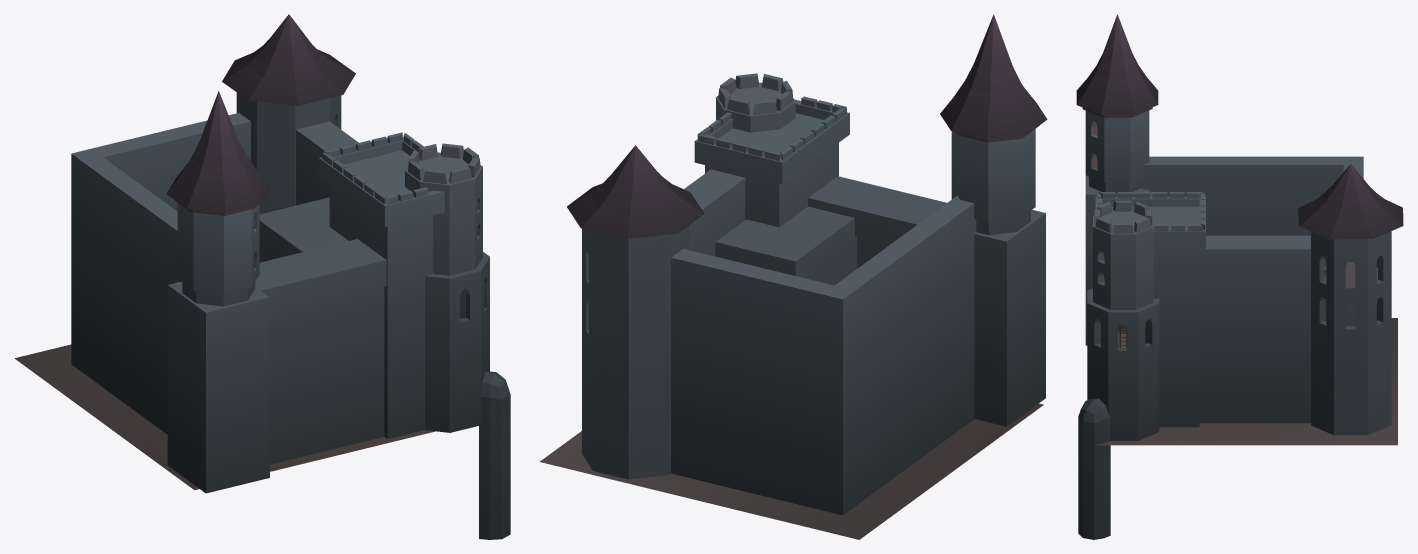
File: castle.fbx
3 renders of one model, left to right at view 1: azimuth 30°, elevation 25°; view 2: azimuth 150°, elevation 25°; view 3: azimuth 270°, elevation 25°, orthographic. The views are drawn at different scales.
Parts seen in each view (by area): view 1: outside_walls_02, wall.001, outside_walls_01, tower_01, tower_02, tower_01.001, third_floor_room, tower_roof_02, Plane.014, tower_roof_01, tower_03, Roundcube.001 (+1 smaller); view 2: outside_walls_02, wall.001, outside_walls_01, tower_03, tower_01, Plane.014, third_floor_room, tower_roof_02, tower_01.001, tower_roof_01, third_floor_room.001, tower_02; view 3: wall.001, tower_03, tower_02, outside_walls_02, outside_walls_01, Plane.014, tower_roof_02, tower_01.001, tower_roof_01, Roundcube.001, third_floor_room, third_floor_room.001 (+1 smaller).
Part boxes in pixels (box(x1,y1,x2,y2)): outside_walls_02: box(71, 186, 424, 387); wall.001: box(71, 113, 386, 314); outside_walls_01: box(71, 287, 424, 464); tower_01: box(167, 281, 269, 493); tower_02: box(405, 143, 489, 432); tower_01.001: box(177, 203, 259, 306); third_floor_room: box(319, 132, 444, 226); tower_roof_02: box(222, 14, 355, 105); Plane.014: box(14, 344, 435, 490); tower_roof_01: box(166, 91, 270, 215); tower_03: box(236, 92, 341, 214); Roundcube.001: box(479, 371, 510, 539); outside_walls_02: box(671, 206, 974, 435); wall.001: box(671, 169, 976, 357); outside_walls_01: box(671, 340, 974, 515); tower_03: box(582, 225, 689, 479); tower_01: box(974, 210, 1045, 426); Plane.014: box(540, 403, 1043, 539); third_floor_room: box(694, 96, 849, 183); tower_roof_02: box(567, 145, 704, 239); tower_01.001: box(951, 129, 1035, 234); tower_roof_01: box(940, 14, 1047, 142); third_floor_room.001: box(705, 143, 838, 227); tower_02: box(716, 73, 795, 132); wall.001: box(1142, 156, 1363, 296); tower_03: box(1311, 231, 1391, 435); tower_02: box(1087, 200, 1159, 440); outside_walls_02: box(1159, 212, 1310, 362); outside_walls_01: box(1159, 359, 1310, 427); Plane.014: box(1097, 318, 1397, 445); tower_roof_02: box(1298, 164, 1403, 239); tower_01.001: box(1085, 110, 1149, 193); tower_roof_01: box(1076, 14, 1158, 117); Roundcube.001: box(1078, 398, 1110, 539); third_floor_room: box(1095, 192, 1205, 248); third_floor_room.001: box(1153, 249, 1199, 298).
Bounding box in the file's own units: 1452 × 2156 × 1545.
